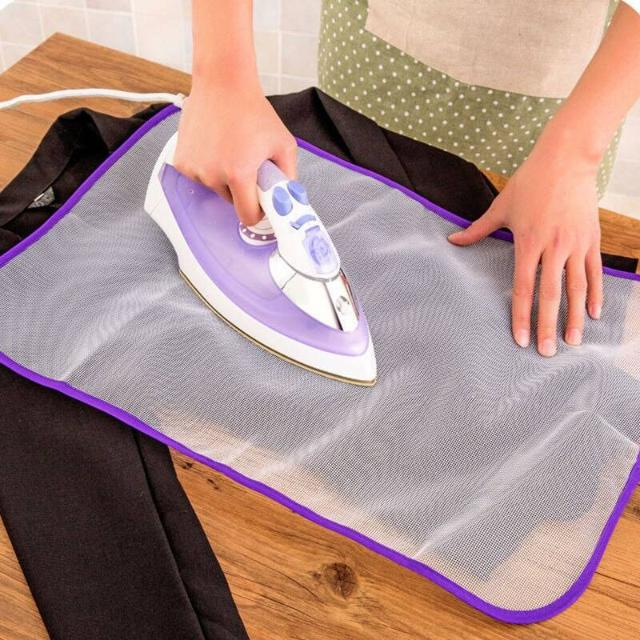Clothes-Iron: (144, 123, 386, 397)
